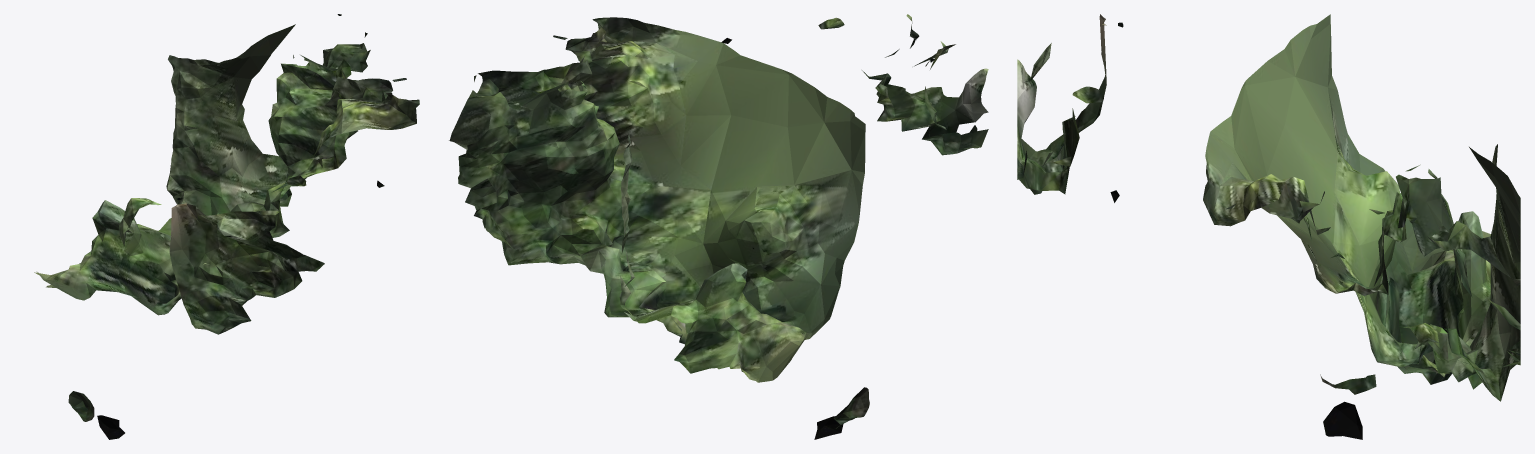
3 views of the same model, side by side, from view 1: azimuth 30°, elevation 25°; view 2: azimuth 150°, elevation 25°; view 3: azimuth 270°, elevation 25° (orthographic). The views are drawn at different scales.
Size of the model in its own units: 26.11 by 23.03 by 26.11.
Materials: 4 (4 with a texture image).
